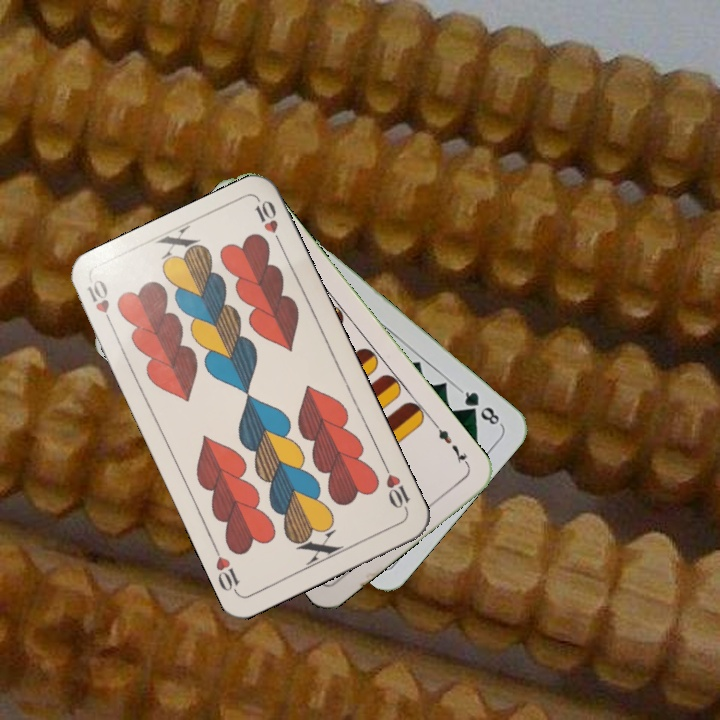E7: (430, 419, 472, 469)
G8: (455, 385, 504, 428)
H10: (83, 275, 118, 332), (379, 459, 413, 515)
